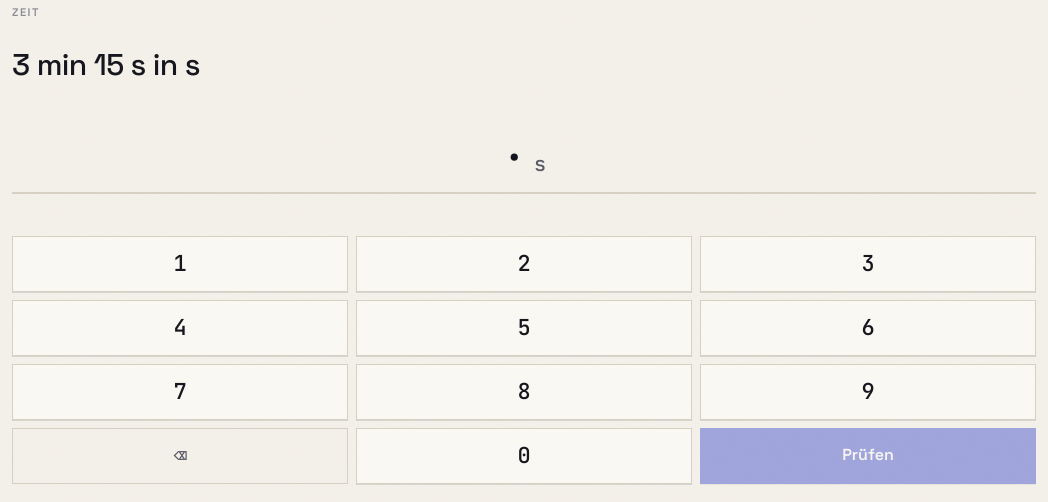
Test: einheiten play surface › names the expected value with its unit after a wrong answer
Click the button "1".
click(180, 264)  # box [12, 236, 348, 292]
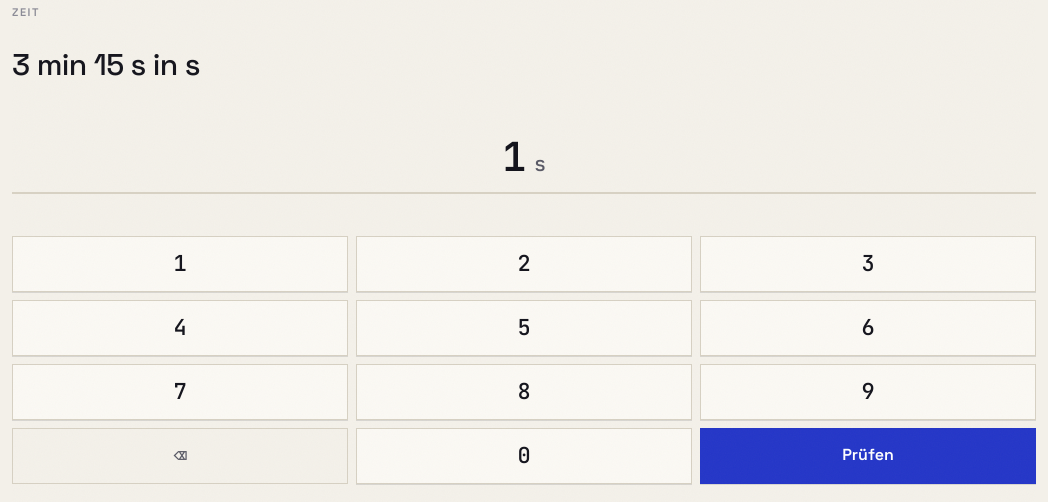
Click the button "9".
click(868, 392)  # box [700, 364, 1036, 420]
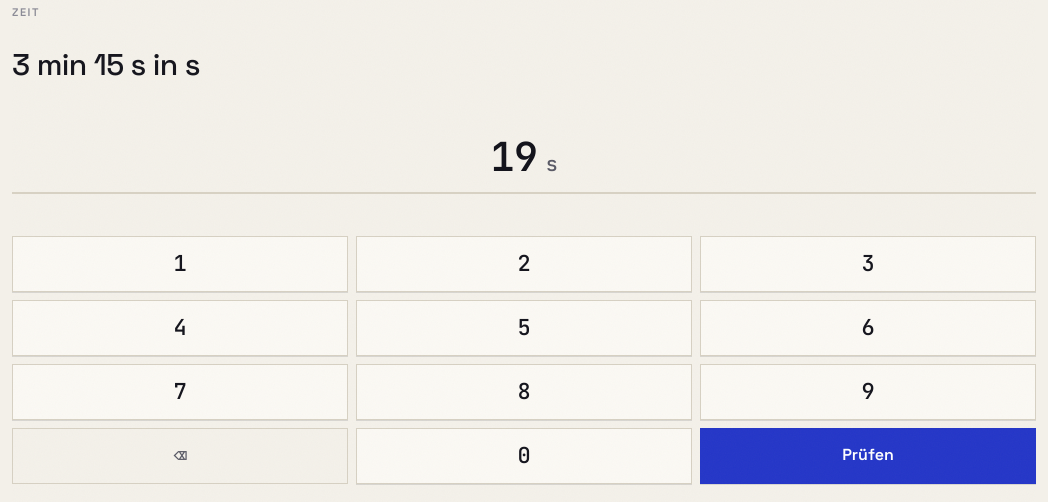
Click the button "5".
click(524, 328)  # box [356, 300, 692, 356]
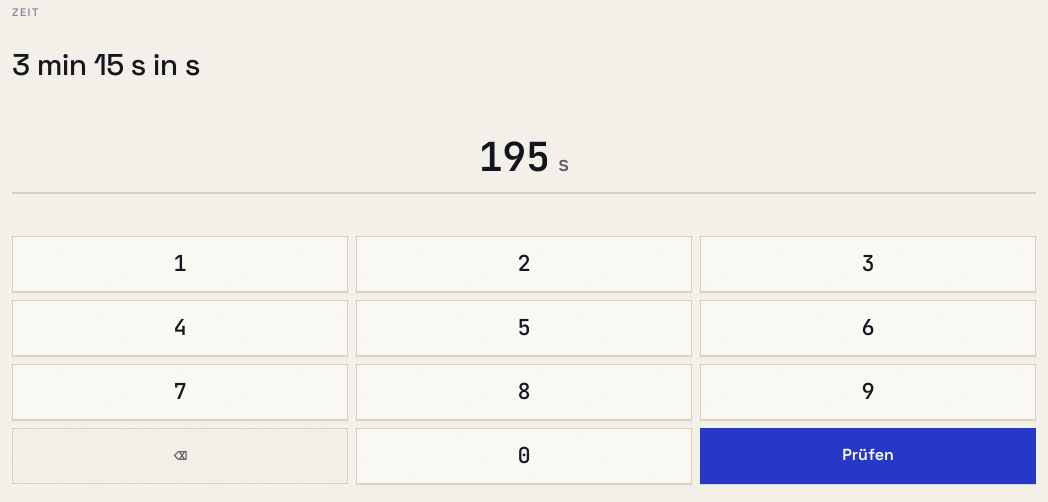
Click the button "1".
click(180, 264)  # box [12, 236, 348, 292]
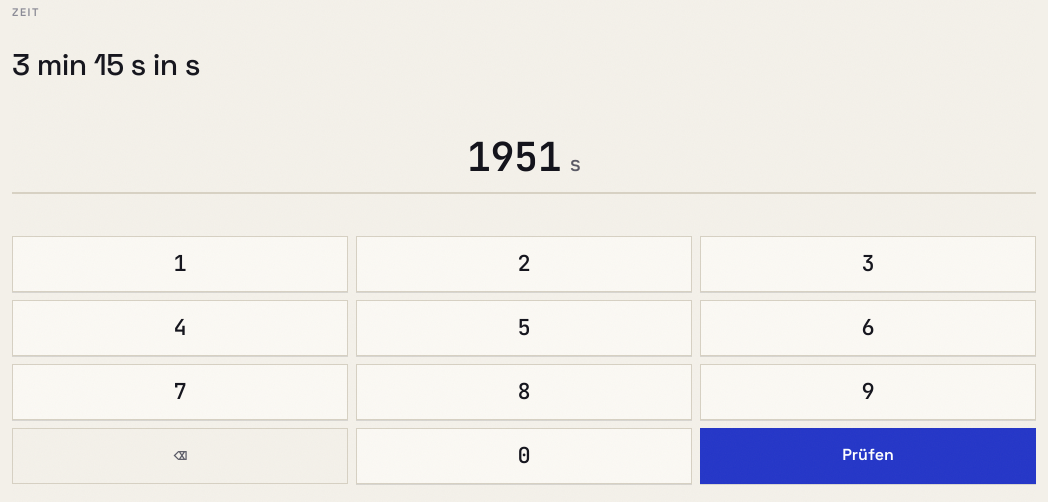
Click the button "Prüfen".
click(868, 456)  # box [700, 428, 1036, 484]
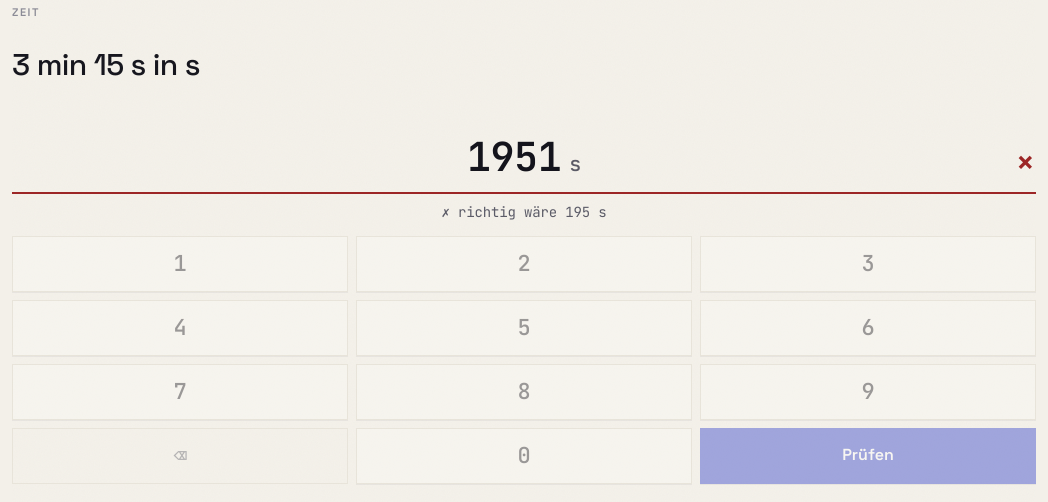
Now the message "✗ richtig wäre 195 s" is shown, box [441, 203, 607, 221]
